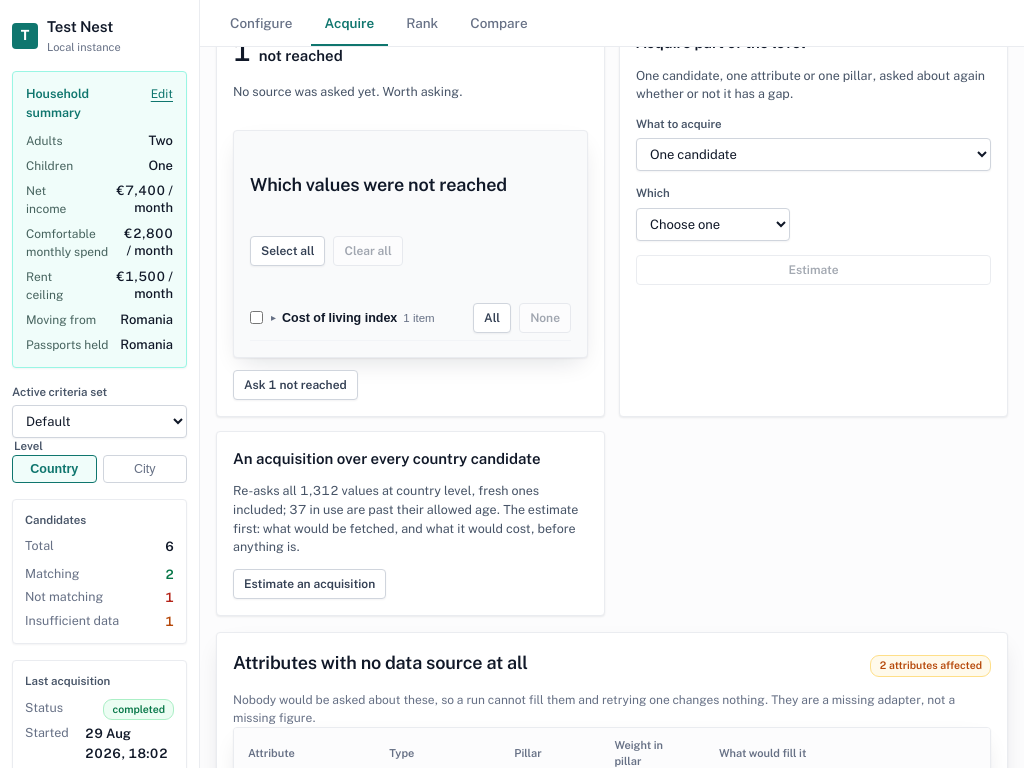
Scenario: an estimate with nothing to ask › offers no confirmation for a remedy card with every source switched off
(page scrolled)
Step 1. Click the button "Ask 1 not reached" → (295, 385), box [233,370,358,400]
(page scrolled)
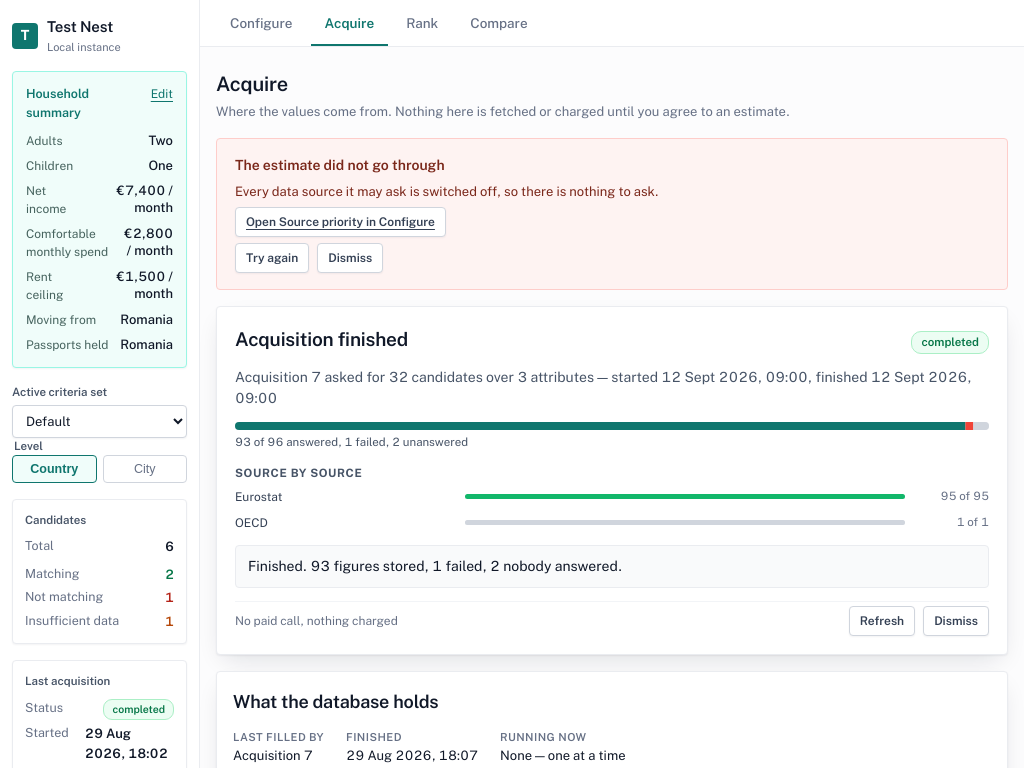
Result: the text "Every data source it may ask is switched off" is shown at [235,184,659,198]
